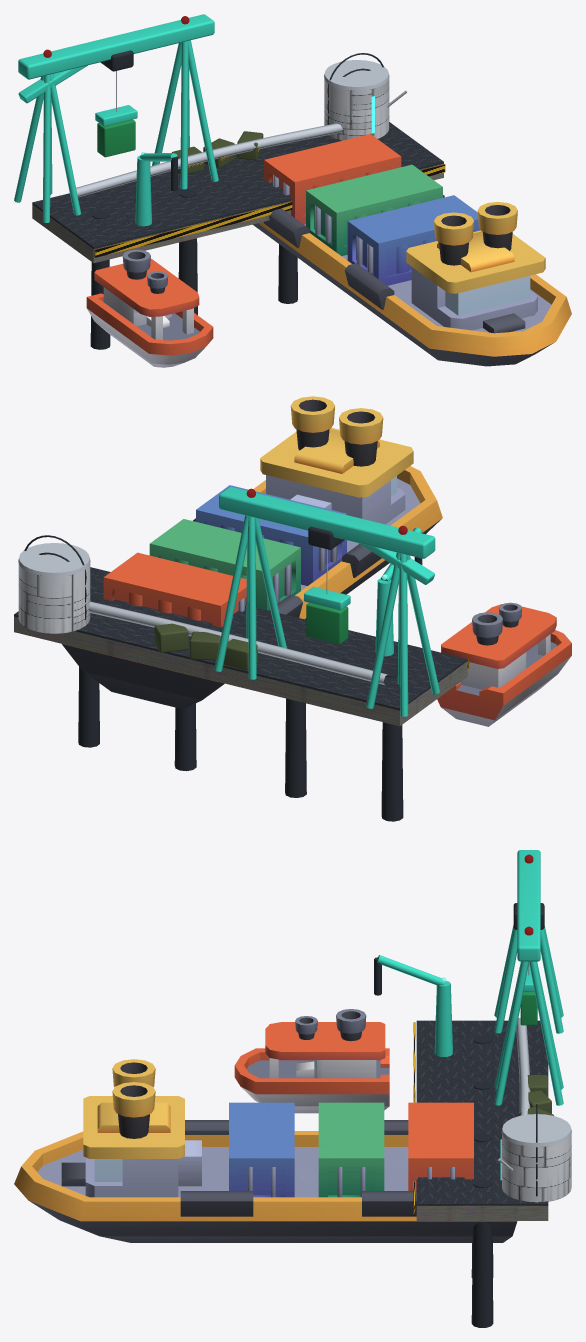
The model's file is dock-T1.glb.
The picture shows the model from 3 angles, top to bottom: view 1: azimuth 30°, elevation 25°; view 2: azimuth 150°, elevation 25°; view 3: azimuth 270°, elevation 25°; orthographic projection. The views are drawn at different scales.
Visible parts, largest first — view 1: ship-cargo-a, object 6, boat-tug-a, cargo-b, cargo-a, cargo-c, object 26, object 31, object 12, anim:trolley, object 5, object 7 (+13 smaller); view 2: ship-cargo-a, object 6, boat-tug-a, object 5, cargo-c, cargo-b, object 26, object 31, cargo-a, anim:trolley, object 12, object 1 (+15 smaller); view 3: ship-cargo-a, object 6, boat-tug-a, cargo-b, cargo-a, cargo-c, object 31, object 26, object 4, object 5, object 32, object 8 (+7 smaller).
Boxes of the visible parts, <box> form: ship-cargo-a: <box>253,195,571,366</box>; object 6: <box>32,122,443,248</box>; boat-tug-a: <box>86,249,213,367</box>; cargo-b: <box>306,164,442,256</box>; cargo-a: <box>347,195,480,285</box>; cargo-c: <box>264,134,401,224</box>; object 26: <box>18,14,214,79</box>; object 31: <box>324,78,389,140</box>; object 12: <box>76,123,343,197</box>; anim:trolley: <box>95,50,137,157</box>; object 5: <box>32,163,443,263</box>; object 7: <box>94,164,445,257</box>; ship-cargo-a: <box>62,396,442,709</box>; object 6: <box>14,567,467,710</box>; boat-tug-a: <box>437,602,571,726</box>; object 5: <box>14,616,467,726</box>; cargo-c: <box>103,552,246,627</box>; cargo-b: <box>149,519,300,610</box>; object 26: <box>219,487,435,558</box>; object 31: <box>18,563,90,633</box>; cargo-a: <box>196,485,346,585</box>; anim:trolley: <box>304,526,350,644</box>; object 12: <box>89,601,387,684</box>; object 1: <box>381,668,403,821</box>; ship-cargo-a: <box>14,1059,517,1242</box>; object 6: <box>416,1020,548,1205</box>; boat-tug-a: <box>234,1009,389,1113</box>; cargo-b: <box>318,1102,384,1197</box>; cargo-a: <box>229,1102,294,1197</box>; cargo-c: <box>408,1102,473,1190</box>; object 31: <box>502,1134,571,1202</box>; object 26: <box>517,850,540,961</box>; object 4: <box>471,1179,493,1327</box>; object 5: <box>416,1205,548,1220</box>; object 32: <box>501,1114,571,1146</box>; object 8: <box>434,981,452,1056</box>.
Size of the model in its own units: 5.95 by 4.39 by 7.2.
Materials: 15 (6 with a texture image).
